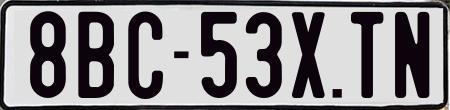3: (246, 10, 287, 102)
5: (201, 11, 239, 100)
8: (27, 10, 63, 97)
B: (76, 10, 113, 98)
C: (128, 10, 167, 104)
N: (395, 10, 433, 101)
T: (351, 9, 389, 95)
X: (290, 11, 327, 103)
